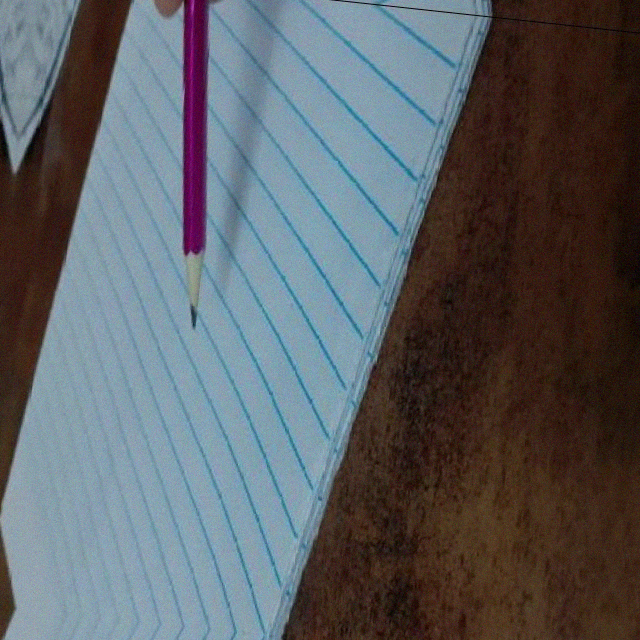pencil: (170, 250, 211, 332)
